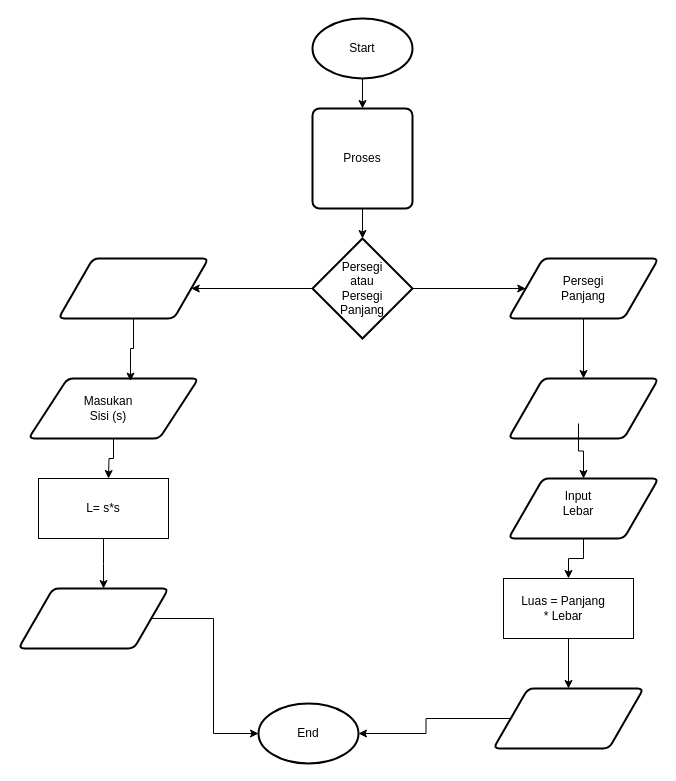
The diagram is 676 pixels wide and 781 high, and some of its shapes have lost their labels. Each missing label, with the box of its shape:
Input Panjang: (507, 377, 659, 439)
Output Luas: (492, 687, 644, 749)
Persegi: (57, 257, 209, 319)
Tampilkan Luas: (17, 587, 169, 649)
